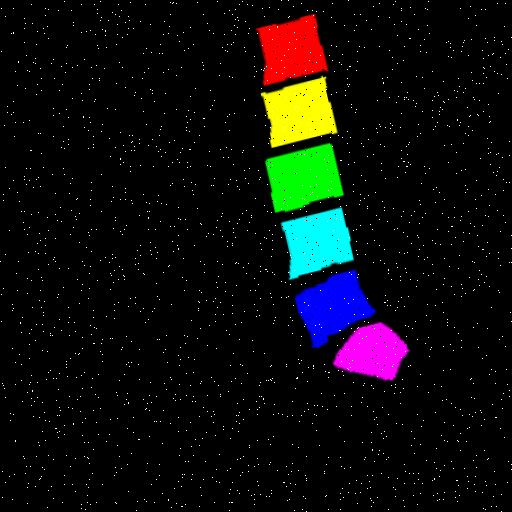L1: (256, 16, 328, 87)
L2: (263, 79, 336, 149)
L3: (268, 144, 342, 212)
L4: (283, 209, 354, 279)
L5: (295, 271, 375, 348)
S1: (334, 324, 409, 382)
